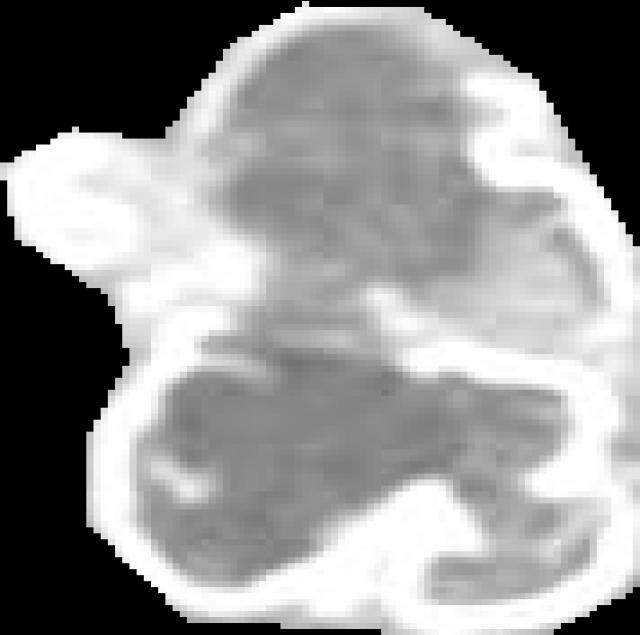tumor_good_chance: (0, 1, 640, 635)
